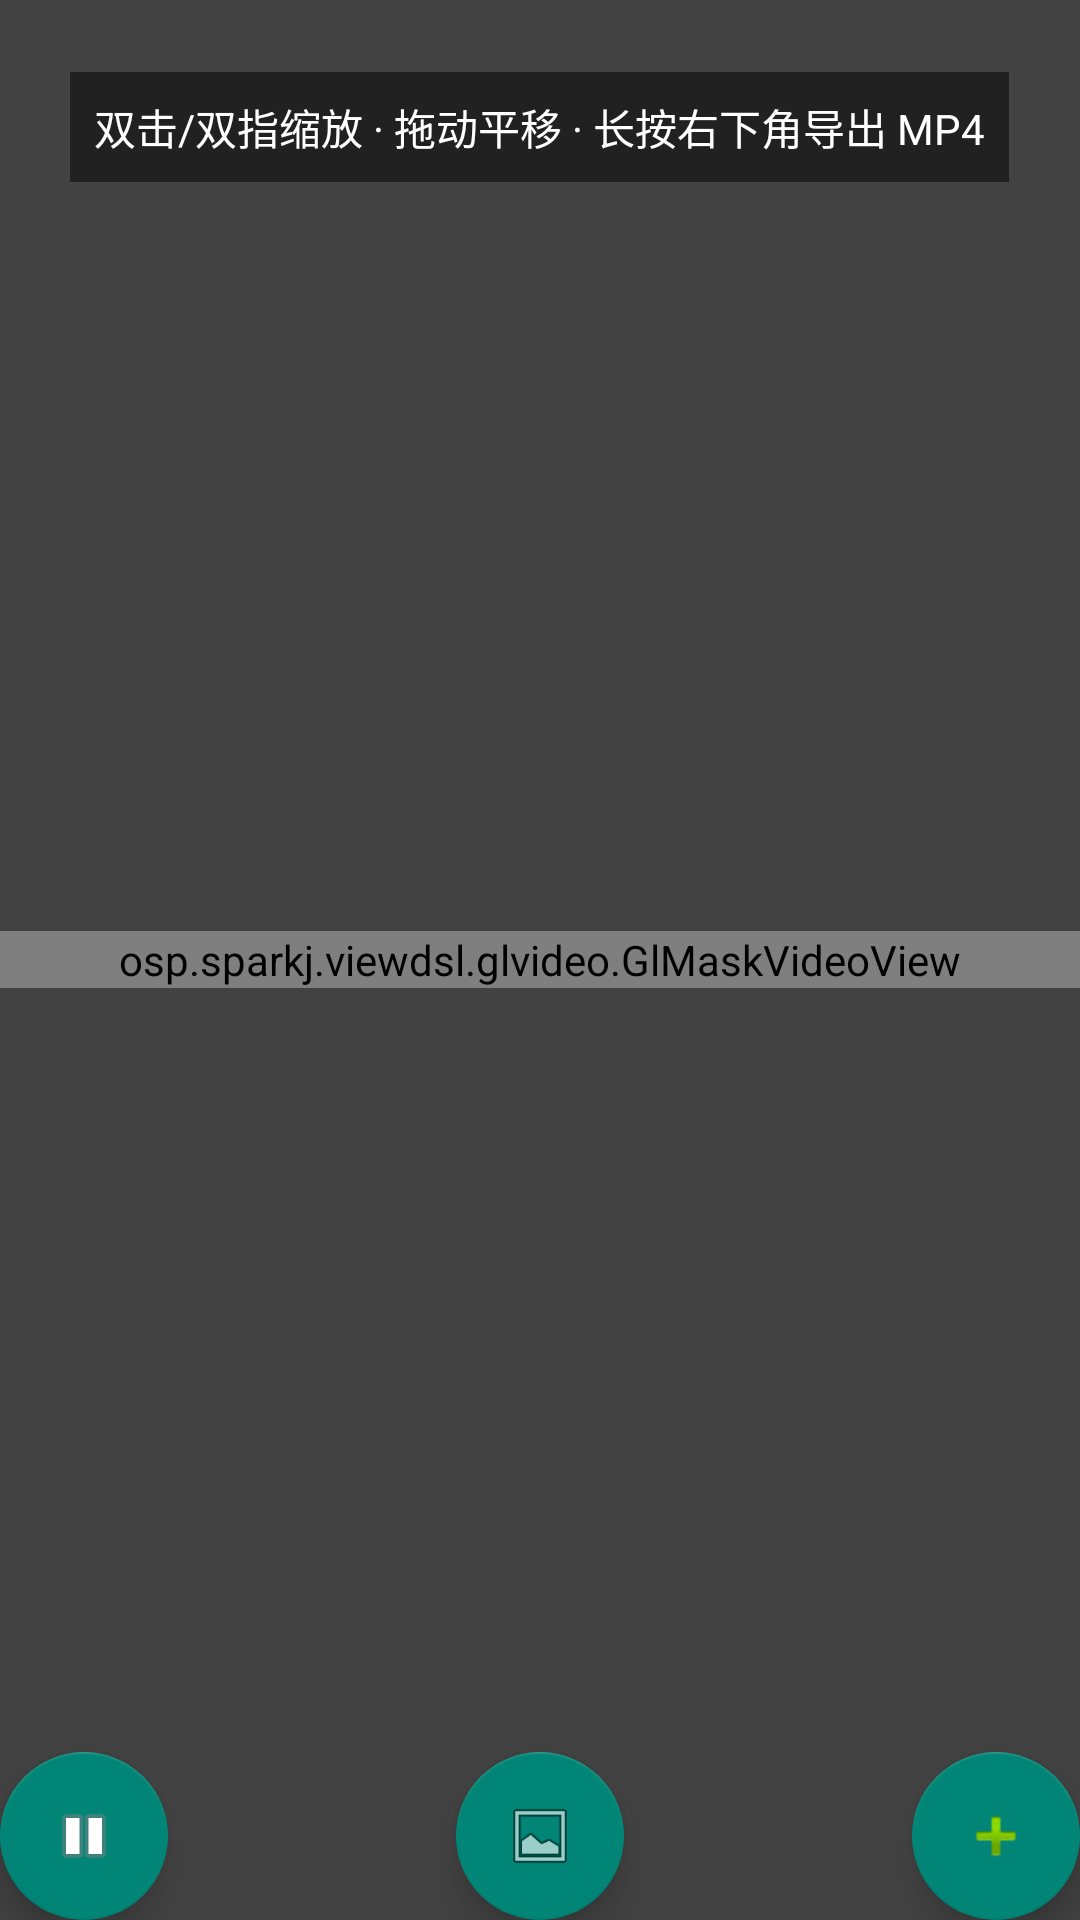

Screen size 1080px x 1920px. Icon name, then its box in pixels as {"left": x1, "top": y1, "right": x2, "bottom": y2}:
play pause: {"left": 0, "top": 1752, "right": 168, "bottom": 1920}
